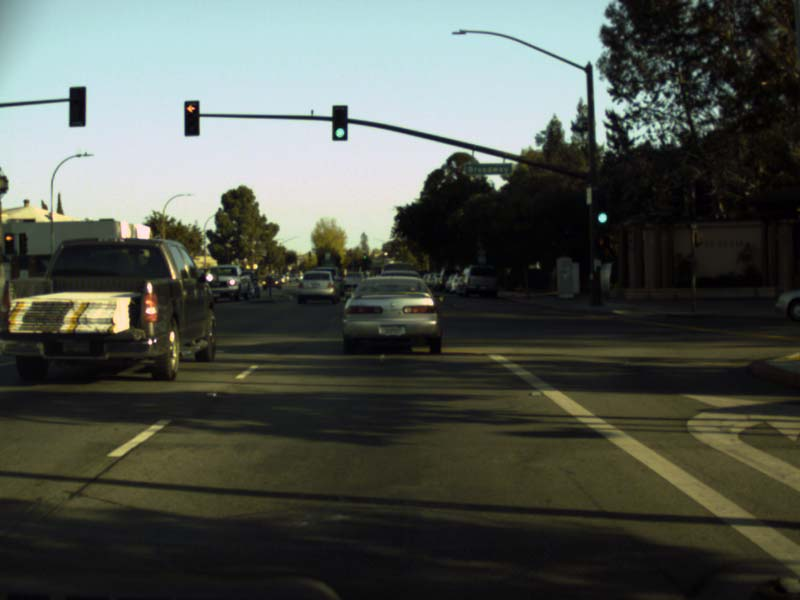Green: (333, 105, 346, 139), (595, 194, 607, 223), (362, 254, 367, 263)
Red: (183, 101, 199, 133), (3, 231, 14, 253)
